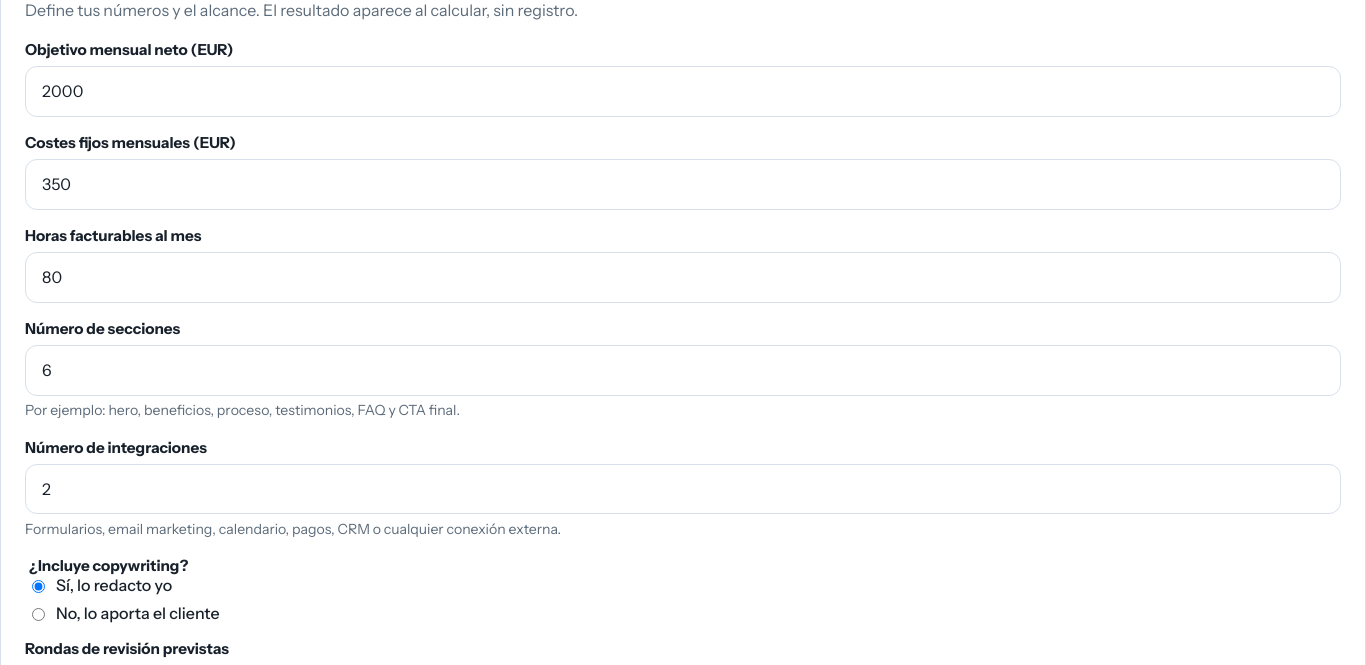
Test: CalculatorForm › shows an error and blocks results when billable hours are 0
Replace the text in the number field labelled "Horas facturables al mes" with "0": (683, 277) [25, 252, 1341, 303]
(page scrolled)
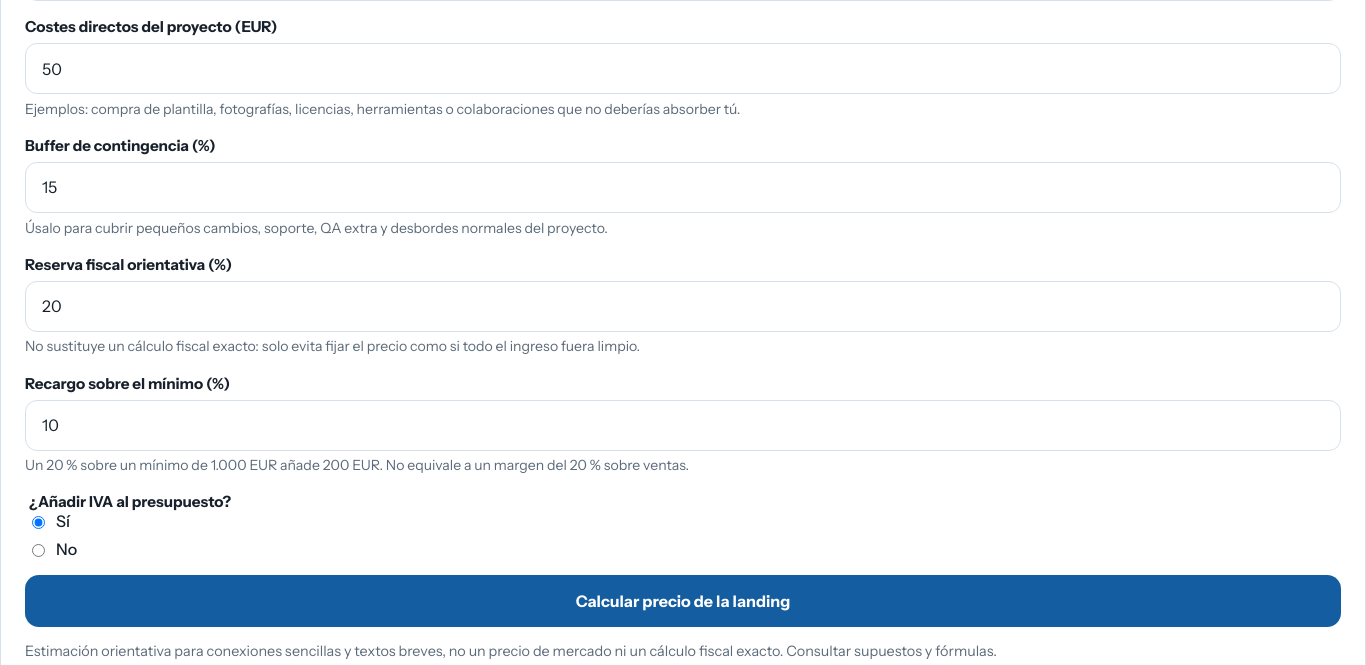
Click the button "Calcular precio de la landing": (683, 601) [25, 575, 1341, 627]
(page scrolled)
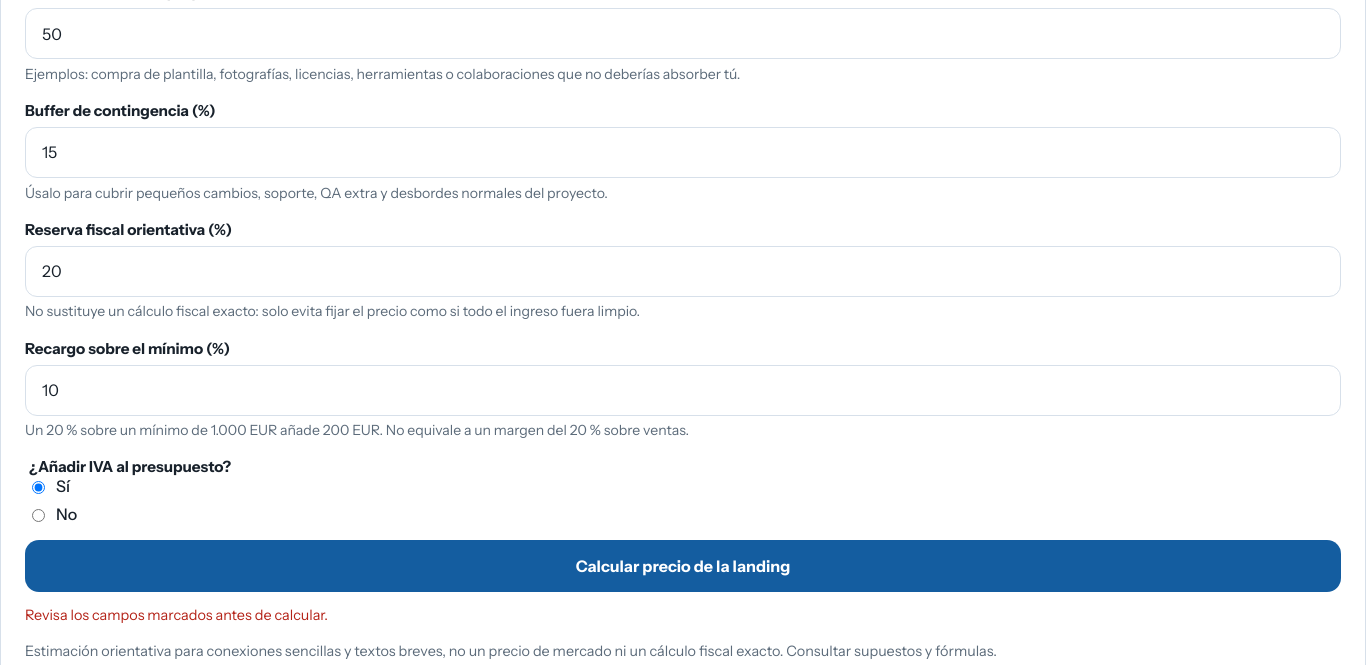
Result: the text "Revisa los campos marcados antes de calcular." is shown at [25, 606, 328, 624]
